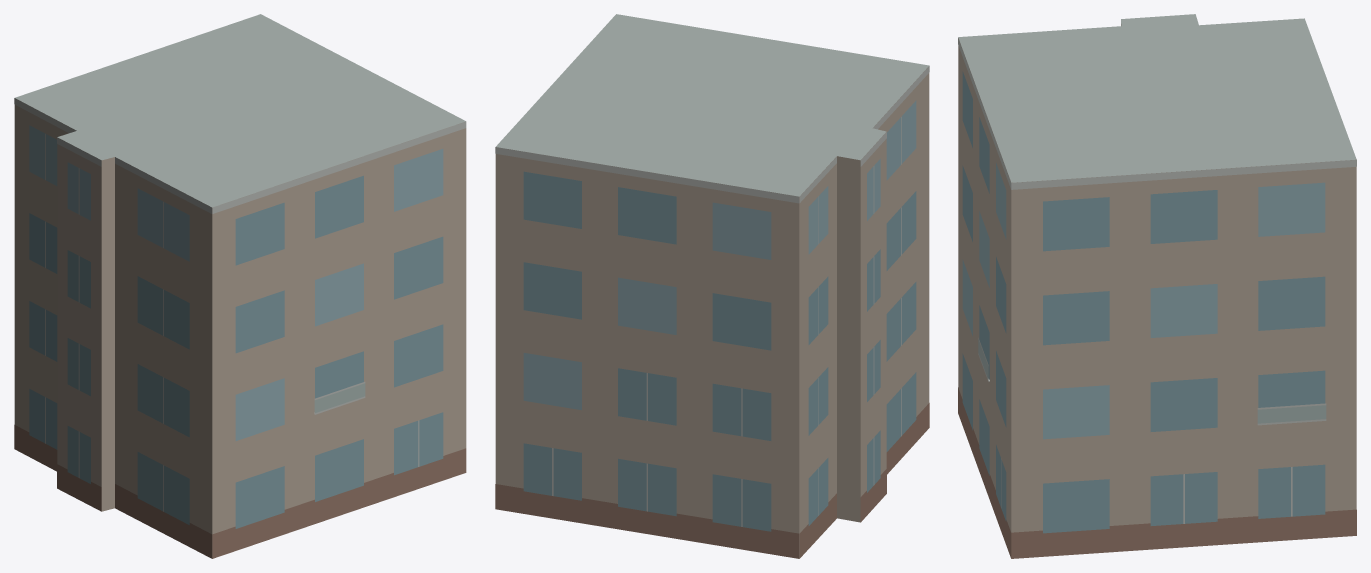
File: survey-upis-32764081.glb
3 views of the same model, side by side, from view 1: azimuth 30°, elevation 25°; view 2: azimuth 150°, elevation 25°; view 3: azimuth 270°, elevation 25° (orthographic). The views are drawn at different scales.
Visible parts, largest first — view 1: survey-upis-32764081.tmp; view 2: survey-upis-32764081.tmp; view 3: survey-upis-32764081.tmp.
Part boxes in pixels (x1=…): survey-upis-32764081.tmp: x1=14, y1=14, x2=466, y2=558; survey-upis-32764081.tmp: x1=495, y1=14, x2=929, y2=558; survey-upis-32764081.tmp: x1=958, y1=14, x2=1356, y2=558.
Bounding box in the file's own units: 12.43 × 12.9 × 12.4.
